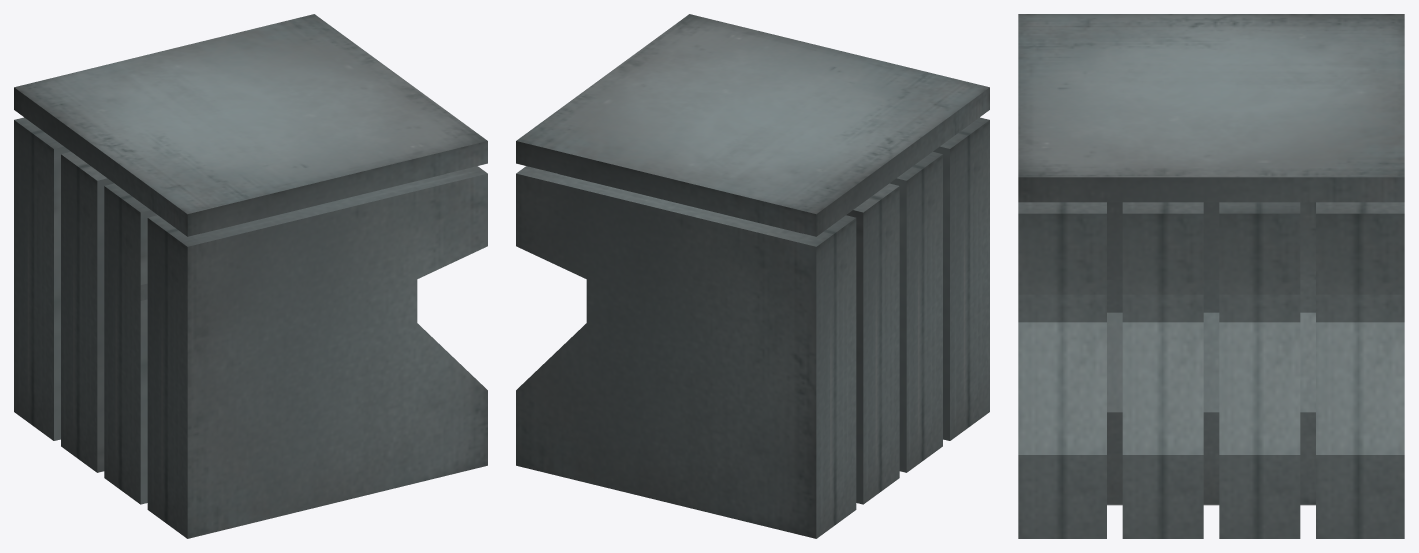
Rendered from Wall_City_1.fbx.
3 views of the same model, side by side, from view 1: azimuth 30°, elevation 25°; view 2: azimuth 150°, elevation 25°; view 3: azimuth 270°, elevation 25° (orthographic). The views are drawn at different scales.
Parts seen in each view (by area): view 1: Cube.159; view 2: Cube.159; view 3: Cube.159.
Boxes of the visible parts, bbox=[...] form: Cube.159: bbox=[14, 14, 487, 538]; Cube.159: bbox=[516, 14, 989, 538]; Cube.159: bbox=[1018, 14, 1404, 538].
Size of the model in its own units: 1 by 1.03 by 1.
